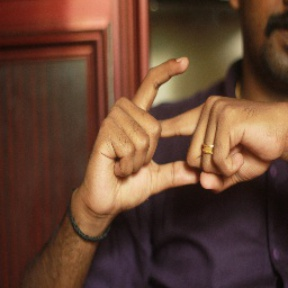E: (107, 54, 228, 195)
